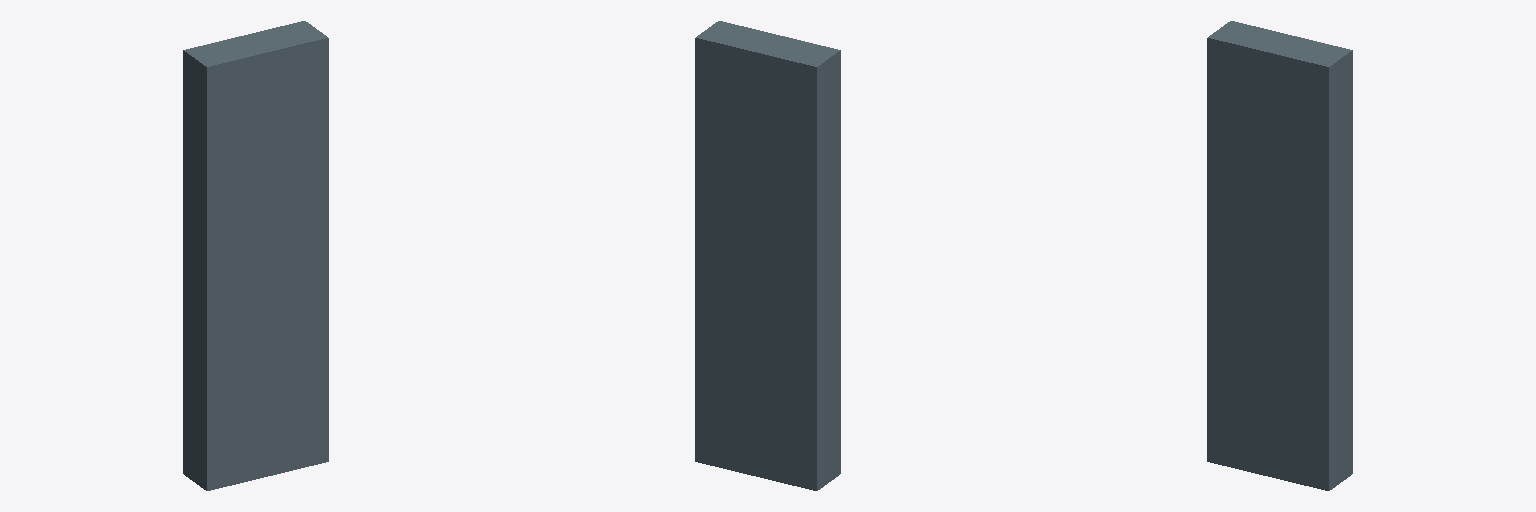
The robot description file, URDF, robot "box":
<?xml version="1.0"?>
<robot name="box">
<link name="world"/>
  <joint name="fixed" type="fixed">
    <parent link="world"/>
    <child link="box"/>
  </joint>
  <link name="box">
    <inertial>
     <origin
        xyz="0 0 0"
        rpy="0 0 0" />
      <mass value="1"/>
      <!-- Inertia values were calculated to be consistent with the mass and
           geometry size, assuming a uniform density. -->
      <inertia ixx="0.0108" ixy="0" ixz="0" iyy="0.0083" iyz="0" izz="0.0042"/>
    </inertial>
    <visual>
        <origin
        xyz="0 0 0"
        rpy="0 0 0" />
      <geometry>
        <box size=".3 .1 1"/>
      </geometry>
      <material name="red">
           <color rgba="0.4196078431372549 0.48627450980392156 0.5215686274509804 1.0"/>
      </material>
    </visual>
    <collision name="box">
      <geometry>
        <box size=".3 .1 1"/>
      </geometry>
    </collision>
  </link>
</robot>

--- What the picture shows (computed from the rendered views, not written in the file) ---
3 views of the same robot in one strip: view 1: azimuth 30°, elevation 25°; view 2: azimuth 150°, elevation 25°; view 3: azimuth 330°, elevation 25° (orthographic).
Robot: box — 2 links, 1 joints (1 fixed); root link world; default pose: every joint at zero.
Links seen in each view (by area): view 1: box; view 2: box; view 3: box.
Link boxes in pixels (box(x1,y1,x2,y2)): box: box(183, 21, 328, 490); box: box(695, 21, 840, 490); box: box(1207, 21, 1352, 490).
Size in the robot's own frame: 0.3 by 0.1 by 1 metres.
Geometry: primitives only (box / cylinder / sphere), no mesh files.